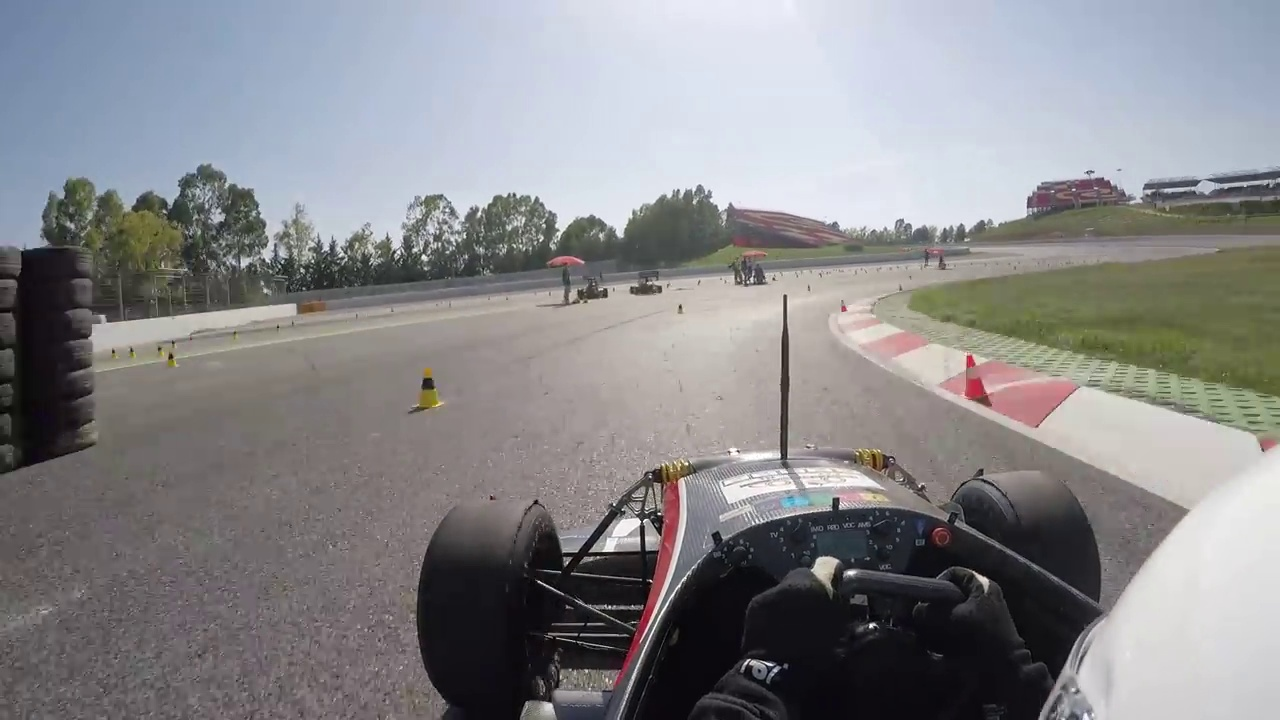Cone: (961, 350, 991, 400), (415, 362, 443, 411)
